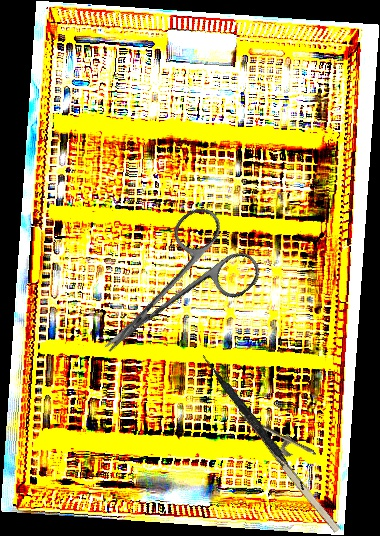Iris Scissors: (72, 199, 267, 385)
Needle Holder: (238, 389, 361, 536)
Spatula Surgical: (197, 353, 311, 491)
